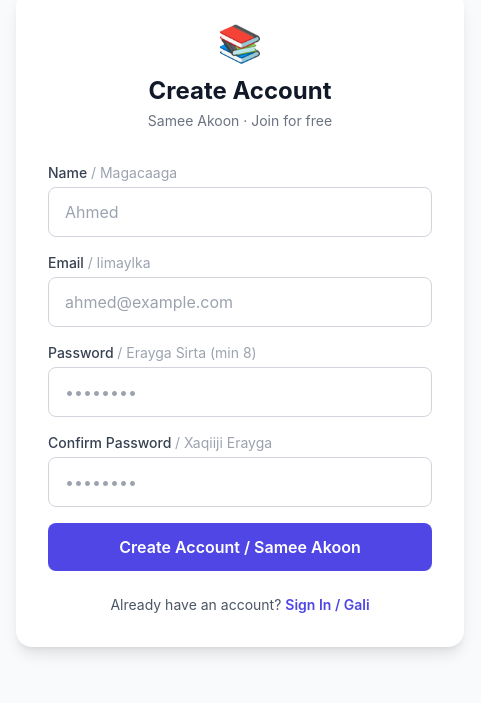
Register mode › shows "Name is required" when name is empty
This screenshot has width=481, height=703.
Click the button "Create Account / Samee Akoon". click: (240, 547)
box: [48, 523, 432, 571]
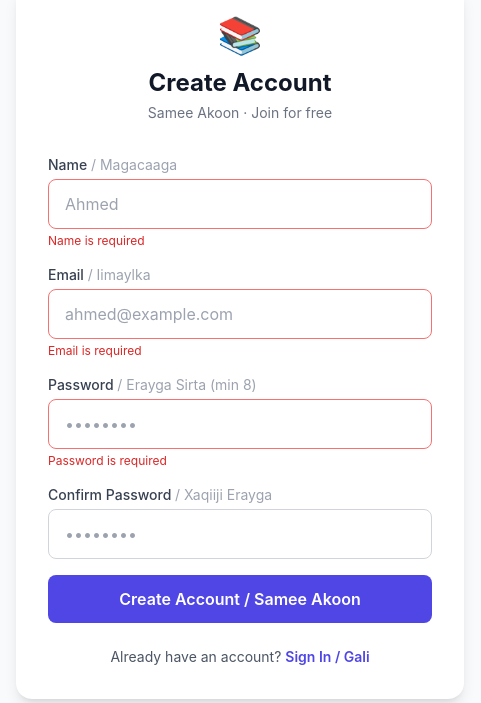
Expected: the text "Name is required" is shown, [48, 233, 145, 248]
